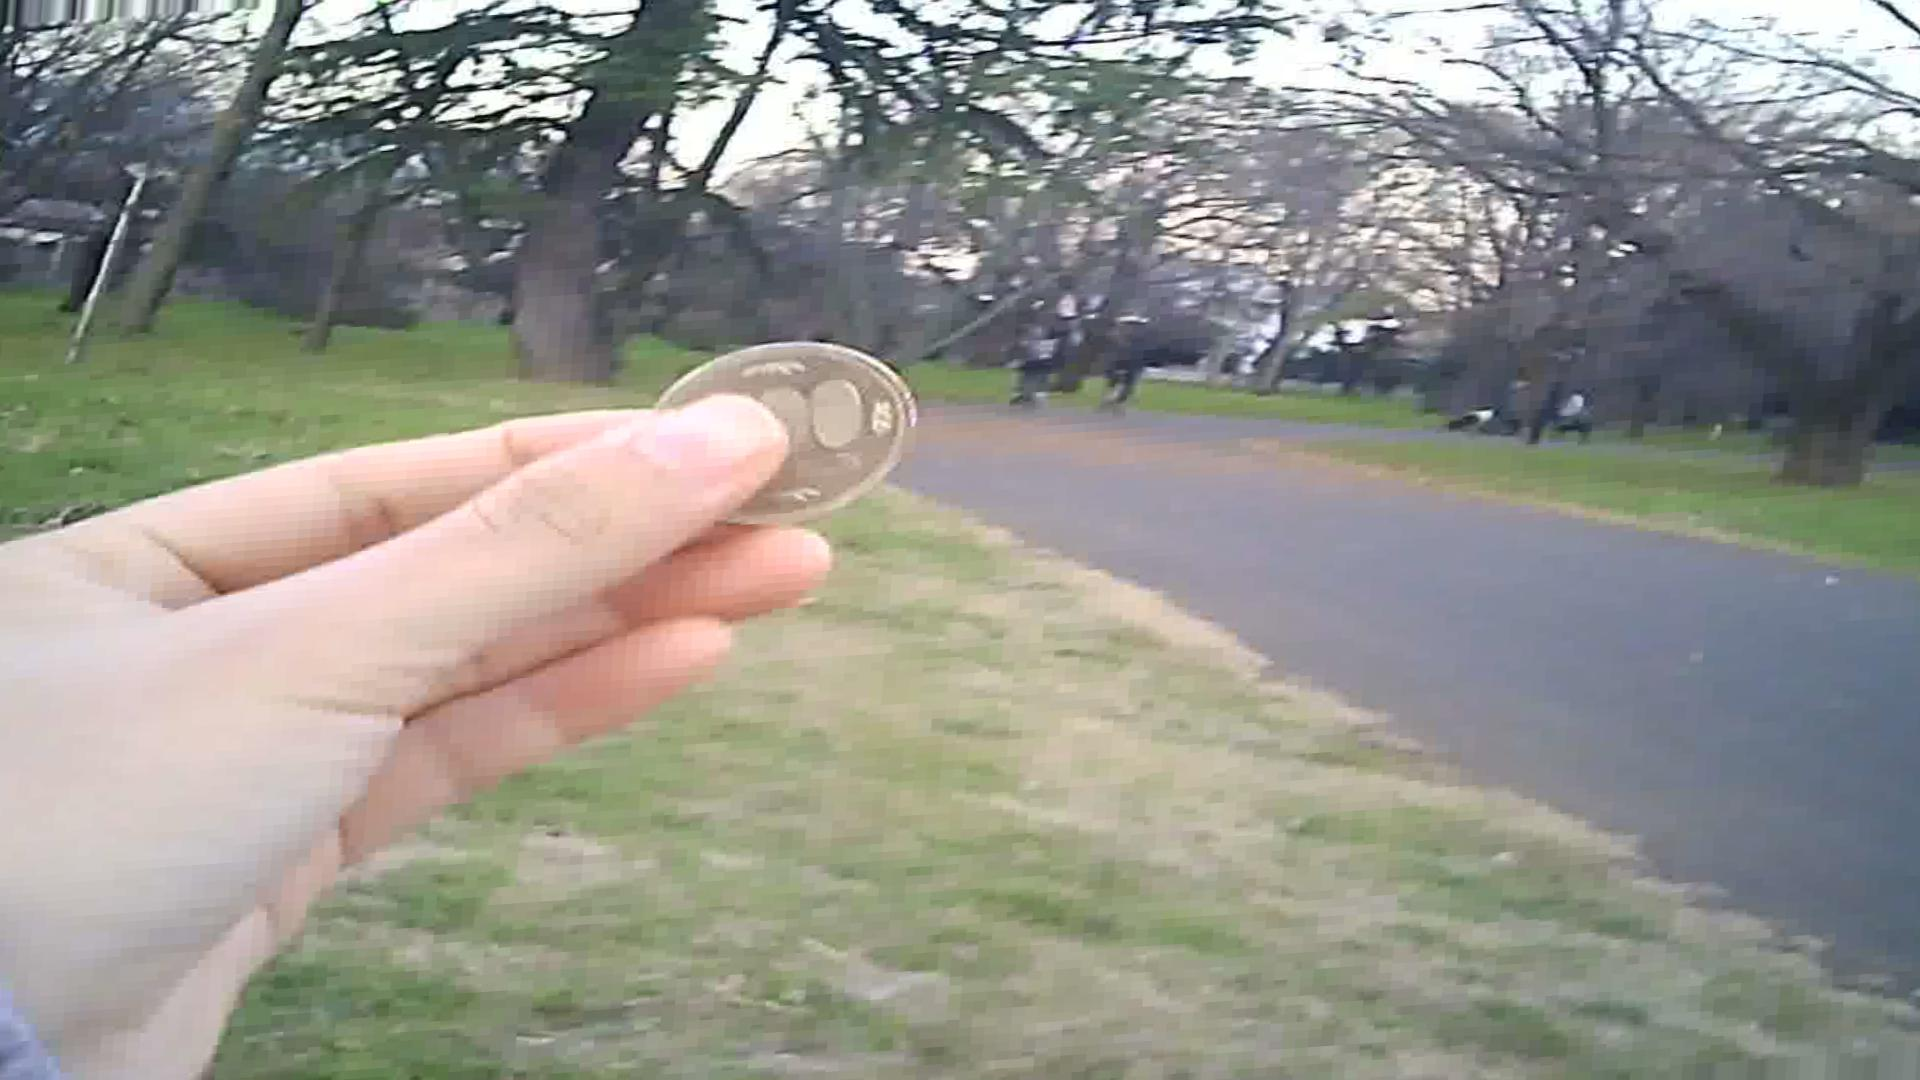500 Yen: (655, 336, 923, 520)
